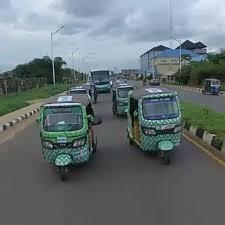keke: (36, 92, 100, 182), (125, 87, 185, 166)
